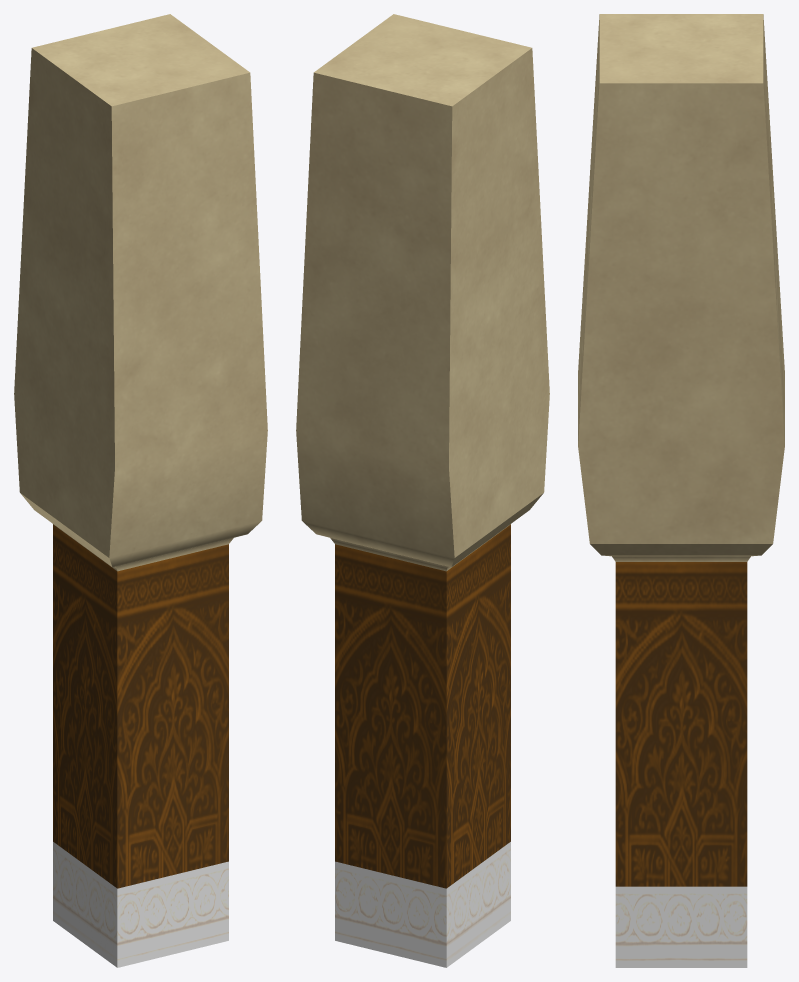
Rendered from sm_pillar1.fbx.
3 views of the same model, side by side, from view 1: azimuth 30°, elevation 25°; view 2: azimuth 150°, elevation 25°; view 3: azimuth 270°, elevation 25° (orthographic). The views are drawn at different scales.
Visible parts, largest first — view 1: Pillar1; view 2: Pillar1; view 3: Pillar1.
Boxes of the visible parts, <box> form: Pillar1: <box>14,14,267,967</box>; Pillar1: <box>296,14,549,967</box>; Pillar1: <box>578,14,784,967</box>.
Bounding box in the file's own units: 0.551 × 3 × 0.6305.
